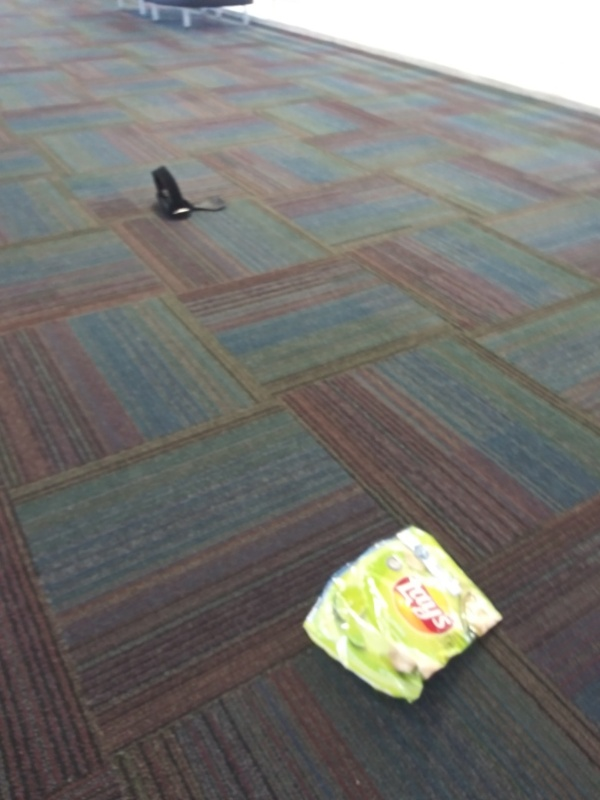bag: (295, 521, 507, 711)
